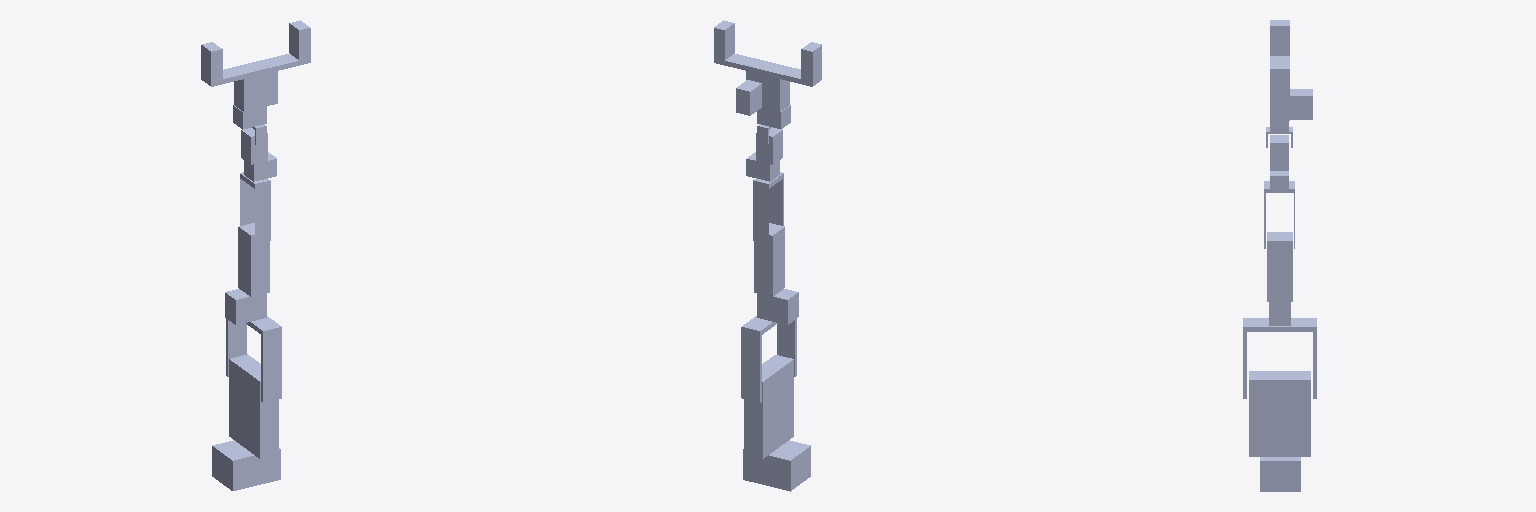
robot.urdf — finalarm_simplified_description:
<robot name="finalarm_simplified_description">

  <!-- the namespace of controller manager should be the same as the spawner -->
  <gazebo>
  <plugin name="gazebo_ros_control" filename="libgazebo_ros_control.so">
      <robotNamespace>/finalarm_simplified</robotNamespace>
      <robotSimType>gazebo_ros_control/DefaultRobotHWSim</robotSimType>
    </plugin>
  </gazebo>


  <link name="root">
    <visual>
      <origin xyz="0 0 0" rpy="0 0 0" />
      <geometry>
        <box size="0 0 0" />
      </geometry>
    </visual>
    <collision>
      <origin xyz="0 0 0" rpy="0 0 0" />
      <geometry>
        <box size="0 0 0" />
      </geometry>
    </collision>
  </link>

  <!-- Used for fixing robot to Gazebo 'base_link' -->
  <link name="world" />
  <joint name="connect_root_and_world" type="fixed">
    <parent link="world" />
    <child link="root" />
    <axis xyz="0 0 0" />
    <origin xyz="0 0 0" rpy="0 0 0" />
  </joint>

  <joint name="root_to_base_link" type="fixed">
    <parent link="root" />
    <child link="base_link" />
    <axis xyz="0 0 0" />
    <origin xyz="0 0 0" rpy="0 0 0" />
  </joint>

  <link name="base_link">
    <inertial>
      <origin xyz="-0.0164 -8.67361737988404E-19 0.0311" rpy="0 0 0" />
      <mass value="0.481547424" />
      <inertia
        ixx="0.00259388526"
        ixy="-0.00000005038"
        ixz="-0.00033538856"
        iyy="0.00279542583"
        iyz="-0.00000008121"
        izz="0.00116940616"
      />
    </inertial>
    <visual>
      <origin xyz="0 0 0" rpy="0 0 0" />
      <geometry>
        <mesh
          filename="package://finalarm_simplified_description/meshes/base_link.STL"
        />
      </geometry>
      <material name="">
        <color rgba="0.792156862745098 0.819607843137255 0.933333333333333 1" />
      </material>
    </visual>
    <collision>
      <origin xyz="0 0 0" rpy="0 0 0" />
      <geometry>
        <mesh
          filename="package://finalarm_simplified_description/meshes/base_link.STL"
        />
      </geometry>
    </collision>
  </link>
  <link name="link_2">
    <inertial>
      <origin
        xyz="-1.38777878078145E-17 -4.33680868994202E-18 -0.078375"
        rpy="0 0 0"
      />
      <mass value="0.7142784" />
      <inertia
        ixx="0.00096626194"
        ixy="-0.00000006431"
        ixz="0.00000032990"
        iyy="0.00575735994"
        iyz="-0.00039309867"
        izz="0.00066079574"
      />
    </inertial>
    <visual>
      <origin xyz="0 0 0" rpy="0 0 0" />
      <geometry>
        <mesh
          filename="package://finalarm_simplified_description/meshes/link_2.STL"
        />
      </geometry>
      <material name="">
        <color rgba="0.792156862745098 0.819607843137255 0.933333333333333 1" />
      </material>
    </visual>
    <collision>
      <origin xyz="0 0 0" rpy="0 0 0" />
      <geometry>
        <mesh
          filename="package://finalarm_simplified_description/meshes/link_2.STL"
        />
      </geometry>
    </collision>
  </link>
  <joint name="joint_1" type="revolute">
    <origin xyz="0 0 0.0622" rpy="3.1416 0 3.1416" />
    <parent link="base_link" />
    <child link="link_2" />
    <axis xyz="0 0 -1" />
    <limit lower="-3.14" upper="3.14" effort="6" velocity="2" />
    <dynamics damping="0.5" />
  </joint>
  <link name="link_3">
    <inertial>
      <origin
        xyz="0.00913796893535261 -0.110721113647521 0.000700000000000008"
        rpy="0 0 0"
      />
      <mass value="0.26363602" />
      <inertia
        ixx="0.00067487030"
        ixy="-0.00005184685"
        ixz="-0.00000255096"
        iyy="0.00024791507"
        iyz="0.00002448920"
        izz="0.000052259169"
      />
    </inertial>
    <visual>
      <origin xyz="0 0 0" rpy="0 0 0" />
      <geometry>
        <mesh
          filename="package://finalarm_simplified_description/meshes/link_3.STL"
        />
      </geometry>
      <material name="">
        <color rgba="0.792156862745098 0.819607843137255 0.933333333333333 1" />
      </material>
    </visual>
    <collision>
      <origin xyz="0 0 0" rpy="0 0 0" />
      <geometry>
        <mesh
          filename="package://finalarm_simplified_description/meshes/link_3.STL"
        />
      </geometry>
    </collision>
  </link>
  <joint name="joint_2" type="revolute">
    <origin xyz="0 0 -0.14225" rpy="1.5708 0 0" />
    <parent link="link_2" />
    <child link="link_3" />
    <axis xyz="0 0 1" />
    <limit lower="-2.35" upper="2.35" effort="6" velocity="2" />
    <dynamics damping="0.5" />
  </joint>
  <link name="link_4">
    <inertial>
      <origin xyz="0 -8.67361737988404E-19 -0.06225" rpy="0 0 0" />
      <mass value="0.2302254" />
      <inertia
        ixx="0.00012288342"
        ixy="-0.00000000216"
        ixz="0.00000001618"
        iyy="0.00011093520"
        iyz="0.00000039768"
        izz="0.00002956657"
      />
    </inertial>
    <visual>
      <origin xyz="0 0 0" rpy="0 0 0" />
      <geometry>
        <mesh
          filename="package://finalarm_simplified_description/meshes/link_4.STL"
        />
      </geometry>
      <material name="">
        <color rgba="0.792156862745098 0.819607843137255 0.933333333333333 1" />
      </material>
    </visual>
    <collision>
      <origin xyz="0 0 0" rpy="0 0 0" />
      <geometry>
        <mesh
          filename="package://finalarm_simplified_description/meshes/link_4.STL"
        />
      </geometry>
    </collision>
  </link>
  <joint name="joint_3" type="revolute">
    <origin xyz="0 -0.1721 0.0007" rpy="-1.5708 0 0" />
    <parent link="link_3" />
    <child link="link_4" />
    <axis xyz="0 0 -1" />
    <limit lower="-3.14" upper="3.14" effort="6" velocity="2" />
    <dynamics damping="0.5" />
  </joint>
  <link name="link_5">
    <inertial>
      <origin
        xyz="-0.00941019053261395 0.12018845656372 -0.00050000000000005"
        rpy="0 0 0"
      />
      <mass value="0.09729148" />
      <inertia
        ixx="0.00014398020"
        ixy="-0.00001235082"
        ixz="0.00000001592"
        iyy="0.00003078676"
        iyz="0.00000000000"
        izz="0.00013784036"
      />
    </inertial>
    <visual>
      <origin xyz="0 0 0" rpy="0 0 0" />
      <geometry>
        <mesh
          filename="package://finalarm_simplified_description/meshes/link_5.STL"
        />
      </geometry>
      <material name="">
        <color rgba="0.792156862745098 0.819607843137255 0.933333333333333 1" />
      </material>
    </visual>
    <collision>
      <origin xyz="0 0 0" rpy="0 0 0" />
      <geometry>
        <mesh
          filename="package://finalarm_simplified_description/meshes/link_5.STL"
        />
      </geometry>
    </collision>
  </link>
  <joint name="joint_4" type="revolute">
    <origin xyz="0 0 -0.11" rpy="-1.5708 0 0" />
    <parent link="link_4" />
    <child link="link_5" />
    <axis xyz="0 0 -1" />
    <limit lower="-2.6" upper="2.6" effort="6" velocity="2" />
    <dynamics damping="0.5" />
  </joint>
  <link name="link_6">
    <inertial>
      <origin xyz="0 0 -0.0284" rpy="0 0 0" />
      <mass value="0.0717838399999999" />
      <inertia
        ixx="0.00001425862"
        ixy="0.00000000002"
        ixz="0.00000001440"
        iyy="0.00001225892"
        iyz="-0.00000018076"
        izz="0.00000782673"
      />
    </inertial>
    <visual>
      <origin xyz="0 0 0" rpy="0 0 0" />
      <geometry>
        <mesh
          filename="package://finalarm_simplified_description/meshes/link_6.STL"
        />
      </geometry>
      <material name="">
        <color rgba="0.792156862745098 0.819607843137255 0.933333333333333 1" />
      </material>
    </visual>
    <collision>
      <origin xyz="0 0 0" rpy="0 0 0" />
      <geometry>
        <mesh
          filename="package://finalarm_simplified_description/meshes/link_6.STL"
        />
      </geometry>
    </collision>
  </link>
  <joint name="joint_5" type="revolute">
    <origin xyz="0 0.1551 -0.0005" rpy="-1.5708 0 3.1416" />
    <parent link="link_5" />
    <child link="link_6" />
    <axis xyz="0 0 -1" />
    <limit lower="-3.14" upper="3.14" effort="6" velocity="2" />
    <dynamics damping="0.5" />
  </joint>
  <link name="link_7">
    <inertial>
      <origin
        xyz="-0.00826463614894074 0.044192432559462 0.000250000000000077"
        rpy="0 0 0"
      />
      <mass value="0.07582828" />
      <inertia
        ixx="0.00002339630"
        ixy="-0.00000217744"
        ixz="0.00000002669"
        iyy="0.00001609019"
        iyz="-0.00000018683"
        izz="0.00002459523"
      />
    </inertial>
    <visual>
      <origin xyz="0 0 0" rpy="0 0 0" />
      <geometry>
        <mesh
          filename="package://finalarm_simplified_description/meshes/link_7.STL"
        />
      </geometry>
      <material name="">
        <color rgba="0.792156862745098 0.819607843137255 0.933333333333333 1" />
      </material>
    </visual>
    <collision>
      <origin xyz="0 0 0" rpy="0 0 0" />
      <geometry>
        <mesh
          filename="package://finalarm_simplified_description/meshes/link_7.STL"
        />
      </geometry>
    </collision>
  </link>
  <joint name="joint_6" type="revolute">
    <origin xyz="0 0 -0.0448" rpy="-1.5708 0 0" />
    <parent link="link_6" />
    <child link="link_7" />
    <axis xyz="0 0 1" />
    <limit lower="-1.75" upper="1.75" effort="6" velocity="2" />
    <dynamics damping="0.5" />
  </joint>
  <link name="link_8">
    <inertial>
      <origin
        xyz="-0.00258077730485411 0.00608919416388292 -0.0569223421804808"
        rpy="0 0 0"
      />
      <mass value="0.4263865924" />
      <inertia
        ixx="0.00009442066"
        ixy="-0.00002130242"
        ixz="0.00000443479"
        iyy="0.00007414341"
        iyz="-0.00001347108"
        izz="0.00009696489"
      />
    </inertial>
    <visual>
      <origin xyz="0 0 0" rpy="0 0 0" />
      <geometry>
        <mesh
          filename="package://finalarm_simplified_description/meshes/link_8.STL"
        />
      </geometry>
      <material name="">
        <color rgba="0.792156862745098 0.819607843137255 0.933333333333333 1" />
      </material>
    </visual>
    <collision>
      <origin xyz="0 0 0" rpy="0 0 0" />
      <geometry>
        <mesh
          filename="package://finalarm_simplified_description/meshes/link_8.STL"
        />
      </geometry>
    </collision>
  </link>
  <joint name="joint_7" type="revolute">
    <origin xyz="0.0035 0.0665 0.00025" rpy="-1.5708 0 3.1416" />
    <parent link="link_7" />
    <child link="link_8" />
    <axis xyz="0 0 -1" />
    <limit lower="-3.14" upper="3.14" effort="6" velocity="2" />
    <dynamics damping="0.5" />
  </joint>
  <link name="link_eef" />
  <joint name="joint_eef" type="fixed">
    <origin xyz="0 0 -0.13275" rpy="3.14159265358979 0 3.14159265358979" />
    <parent link="link_8" />
    <child link="link_eef" />
    <axis xyz="0 0 0" />
  </joint>

  <gazebo reference="base_link">
    <turnGravityOff>False</turnGravityOff>
    <selfCollide>True</selfCollide>
  </gazebo>
  <gazebo reference="link_2">
    <turnGravityOff>False</turnGravityOff>
    <selfCollide>True</selfCollide>
  </gazebo>
  <gazebo reference="link_3">
    <turnGravityOff>False</turnGravityOff>
    <selfCollide>True</selfCollide>
  </gazebo>
  <gazebo reference="link_4">
    <turnGravityOff>False</turnGravityOff>
    <selfCollide>True</selfCollide>
  </gazebo>
  <gazebo reference="link_5">
    <turnGravityOff>False</turnGravityOff>
    <selfCollide>True</selfCollide>
  </gazebo>
  <gazebo reference="link_6">
    <turnGravityOff>False</turnGravityOff>
    <selfCollide>True</selfCollide>
  </gazebo>
  <gazebo reference="link_7">
    <turnGravityOff>False</turnGravityOff>
    <selfCollide>True</selfCollide>
  </gazebo>
  <gazebo reference="link_8">
    <turnGravityOff>False</turnGravityOff>
    <selfCollide>True</selfCollide>
  </gazebo>

  <gazebo reference="joint_1">
    <implicitSpringDamper>True</implicitSpringDamper>
  </gazebo>
  <gazebo reference="joint_2">
    <implicitSpringDamper>True</implicitSpringDamper>
  </gazebo>
  <gazebo reference="joint_3">
    <implicitSpringDamper>True</implicitSpringDamper>
  </gazebo>
  <gazebo reference="joint_4">
    <implicitSpringDamper>True</implicitSpringDamper>
  </gazebo>
  <gazebo reference="joint_5">
    <implicitSpringDamper>True</implicitSpringDamper>
  </gazebo>
  <gazebo reference="joint_6">
    <implicitSpringDamper>True</implicitSpringDamper>
  </gazebo>
  <gazebo reference="joint_7">
    <implicitSpringDamper>True</implicitSpringDamper>
  </gazebo>

  <!-- transmission that link actuators to joints-->
  <transmission name="tran1">
    <type>transmission_interface/SimpleTransmission</type>
    <joint name="joint_1">
      <hardwareInterface
      >hardware_interface/PositionJointInterface</hardwareInterface>
    </joint>
    <actuator name="motor_1">
      <hardwareInterface
      >hardware_interface/PositionJointInterface</hardwareInterface>
      <mechanicalReduction>1</mechanicalReduction>
    </actuator>
  </transmission>

  <transmission name="tran2">
    <type>transmission_interface/SimpleTransmission</type>
    <joint name="joint_2">
      <hardwareInterface
      >hardware_interface/PositionJointInterface</hardwareInterface>
    </joint>
    <actuator name="motor_2">
      <hardwareInterface
      >hardware_interface/PositionJointInterface</hardwareInterface>
      <mechanicalReduction>1</mechanicalReduction>
    </actuator>
  </transmission>

  <transmission name="tran3">
    <type>transmission_interface/SimpleTransmission</type>
    <joint name="joint_3">
      <hardwareInterface
      >hardware_interface/PositionJointInterface</hardwareInterface>
    </joint>
    <actuator name="motor_3">
      <hardwareInterface
      >hardware_interface/PositionJointInterface</hardwareInterface>
      <mechanicalReduction>1</mechanicalReduction>
    </actuator>
  </transmission>

  <transmission name="tran4">
    <type>transmission_interface/SimpleTransmission</type>
    <joint name="joint_4">
      <hardwareInterface
      >hardware_interface/PositionJointInterface</hardwareInterface>
    </joint>
    <actuator name="motor_4">
      <hardwareInterface
      >hardware_interface/PositionJointInterface</hardwareInterface>
      <mechanicalReduction>1</mechanicalReduction>
    </actuator>
  </transmission>

  <transmission name="tran5">
    <type>transmission_interface/SimpleTransmission</type>
    <joint name="joint_5">
      <hardwareInterface
      >hardware_interface/PositionJointInterface</hardwareInterface>
    </joint>
    <actuator name="motor_5">
      <hardwareInterface
      >hardware_interface/PositionJointInterface</hardwareInterface>
      <mechanicalReduction>1</mechanicalReduction>
    </actuator>
  </transmission>

  <transmission name="tran6">
    <type>transmission_interface/SimpleTransmission</type>
    <joint name="joint_6">
      <hardwareInterface
      >hardware_interface/PositionJointInterface</hardwareInterface>
    </joint>
    <actuator name="motor_6">
      <hardwareInterface
      >hardware_interface/PositionJointInterface</hardwareInterface>
      <mechanicalReduction>1</mechanicalReduction>
    </actuator>
  </transmission>

  <transmission name="tran7">
    <type>transmission_interface/SimpleTransmission</type>
    <joint name="joint_7">
      <hardwareInterface
      >hardware_interface/PositionJointInterface</hardwareInterface>
    </joint>
    <actuator name="motor_7">
      <hardwareInterface
      >hardware_interface/PositionJointInterface</hardwareInterface>
      <mechanicalReduction>1</mechanicalReduction>
    </actuator>
  </transmission>
</robot>

--- What the picture shows (computed from the rendered views, not written in the file) ---
3 views of the same robot in one strip: view 1: azimuth 30°, elevation 25°; view 2: azimuth 150°, elevation 25°; view 3: azimuth 270°, elevation 25° (orthographic).
Model finalarm_simplified_description with 11 links and 10 joints (7 revolute, 3 fixed), rooted at world, posed every joint at zero.
Links seen in each view (by area): view 1: link_8, link_2, link_3, base_link, link_5, link_4, link_7, link_6; view 2: link_8, link_2, link_3, base_link, link_5, link_4, link_7, link_6; view 3: link_2, link_8, link_3, link_4, base_link, link_5, link_6.
Boxes of the visible links, <box> form: link_8: <box>201,20,310,111</box>; link_2: <box>229,354,278,458</box>; link_3: <box>225,289,281,402</box>; base_link: <box>212,440,280,490</box>; link_5: <box>240,152,276,244</box>; link_4: <box>238,223,269,296</box>; link_7: <box>233,105,266,144</box>; link_6: <box>241,128,267,164</box>; link_8: <box>714,20,821,115</box>; link_2: <box>744,355,793,458</box>; link_3: <box>741,289,798,402</box>; base_link: <box>743,440,810,491</box>; link_5: <box>746,152,783,244</box>; link_4: <box>754,223,784,296</box>; link_7: <box>757,105,790,144</box>; link_6: <box>756,127,782,164</box>; link_2: <box>1249,371,1310,456</box>; link_8: <box>1270,20,1312,120</box>; link_3: <box>1243,302,1316,398</box>; link_4: <box>1267,232,1292,301</box>; base_link: <box>1260,457,1300,491</box>; link_5: <box>1264,171,1294,248</box>; link_6: <box>1270,135,1288,170</box>.
Size in the robot's own frame: 0.21 by 0.1363 by 0.8906 metres.
8 mesh visuals loaded from 8 distinct referenced files (8 binary STL).
